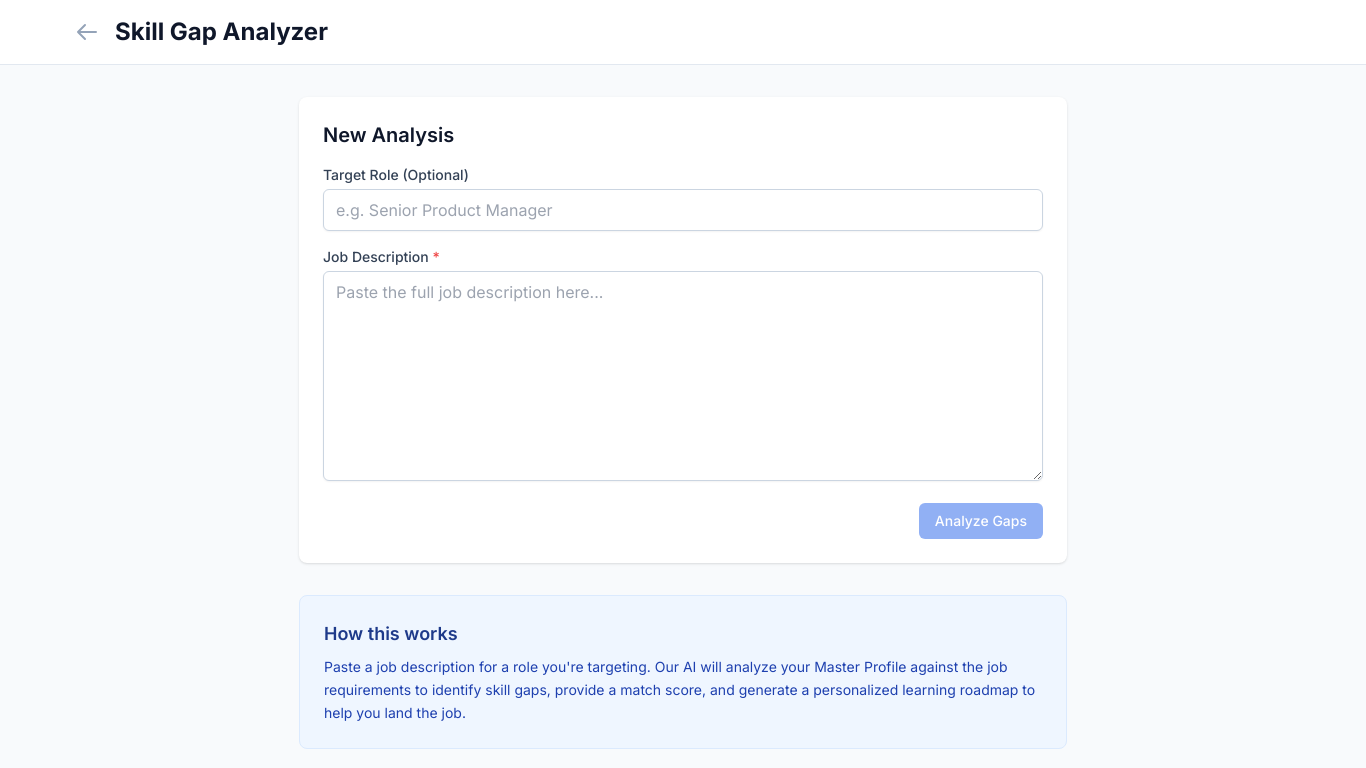
it: SkillGapAnalyzerPage Integration › validates input length
In the text box labelled "Job Description *": (683, 376) left=323, top=271, right=1043, bottom=481, type "Too short"
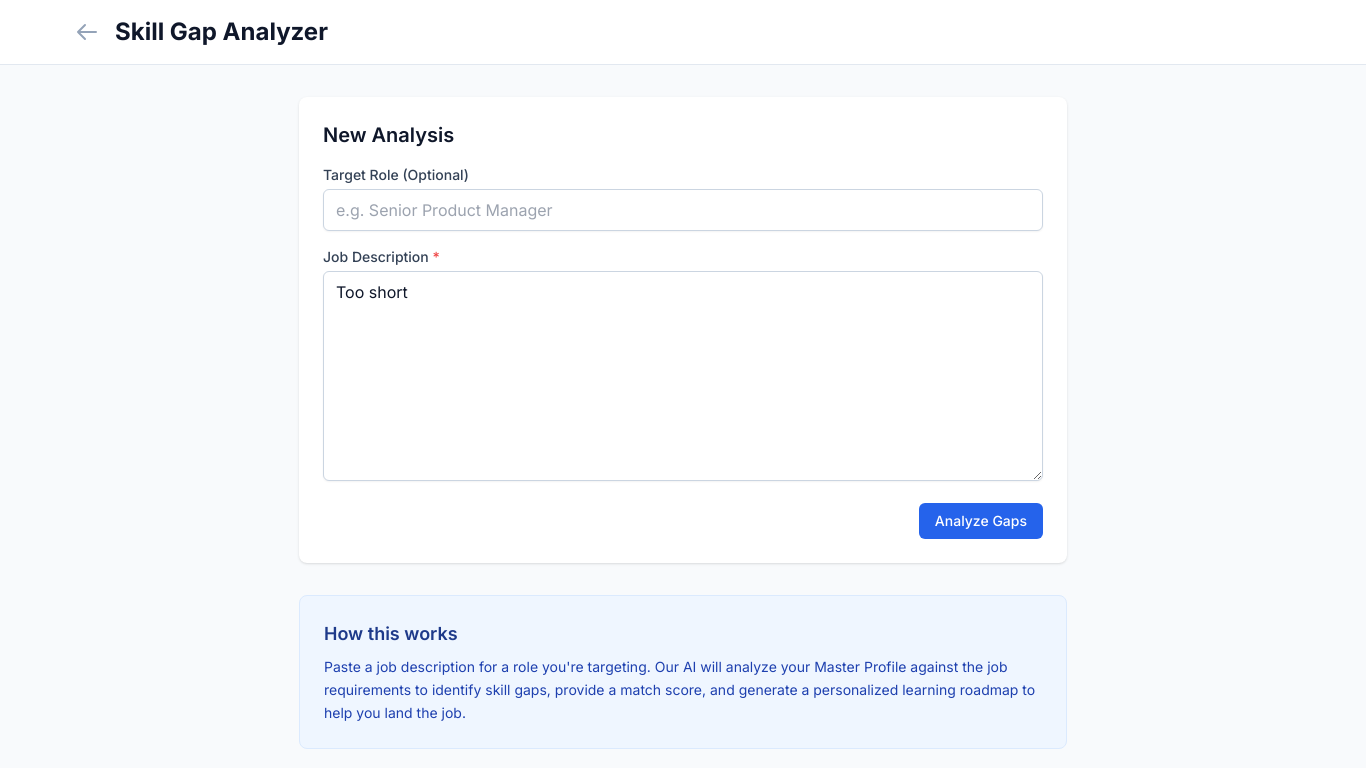
Click the button "Analyze Gaps": (981, 521) left=919, top=503, right=1043, bottom=539
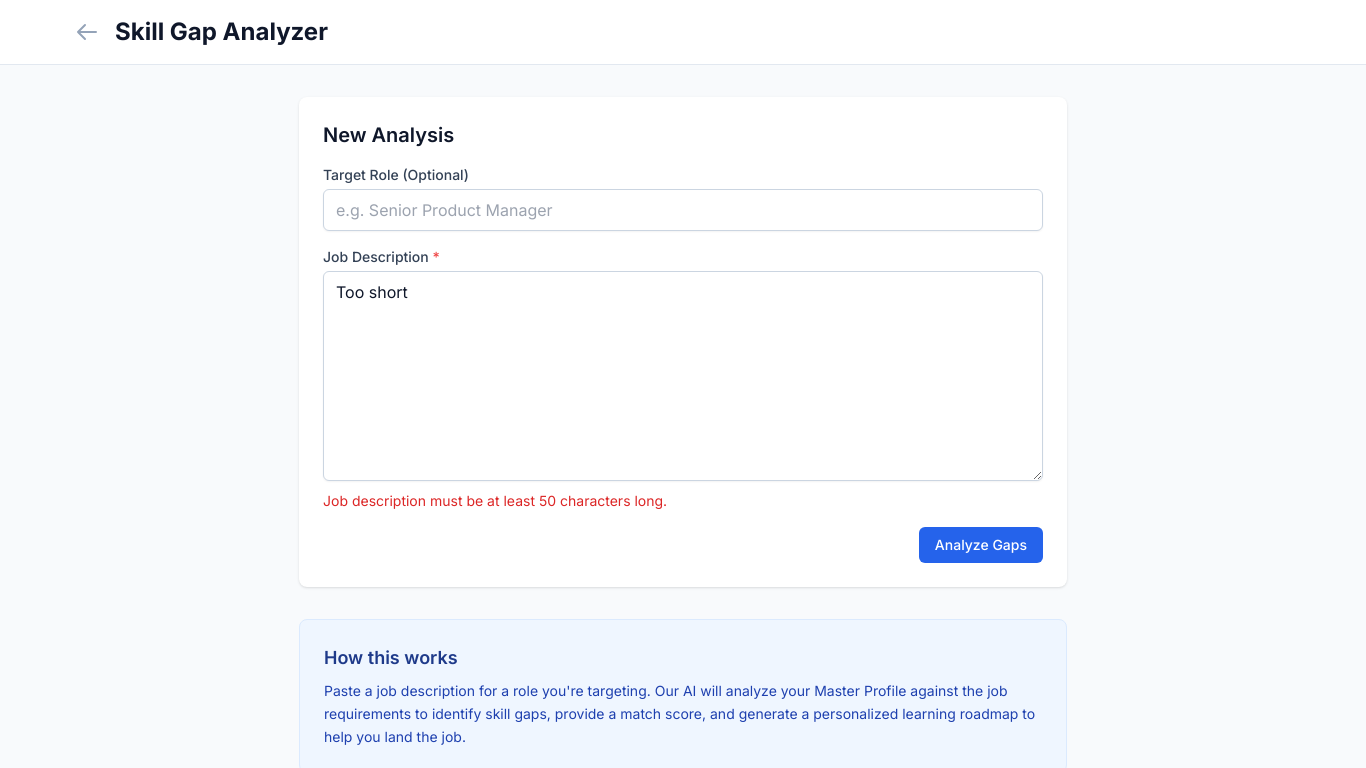
Result: the text "Job description must be at least 50 characters long." is shown at left=323, top=492, right=667, bottom=509
